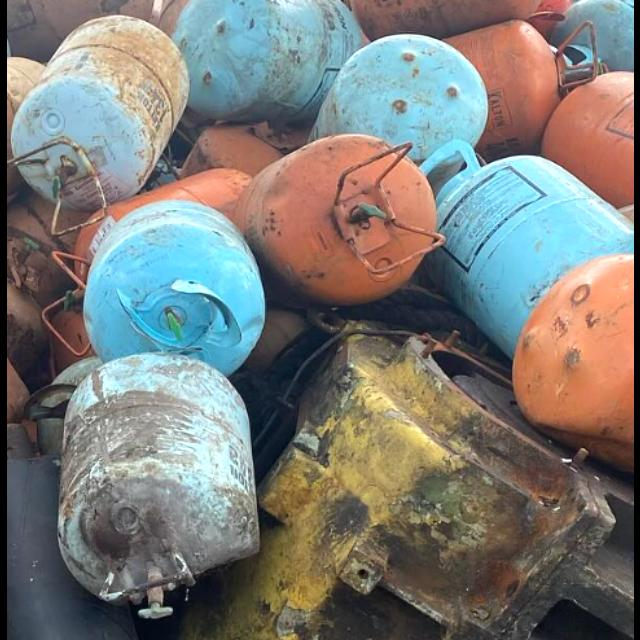Cylinders: (50, 346, 260, 628), (6, 17, 190, 232), (85, 199, 275, 386)
